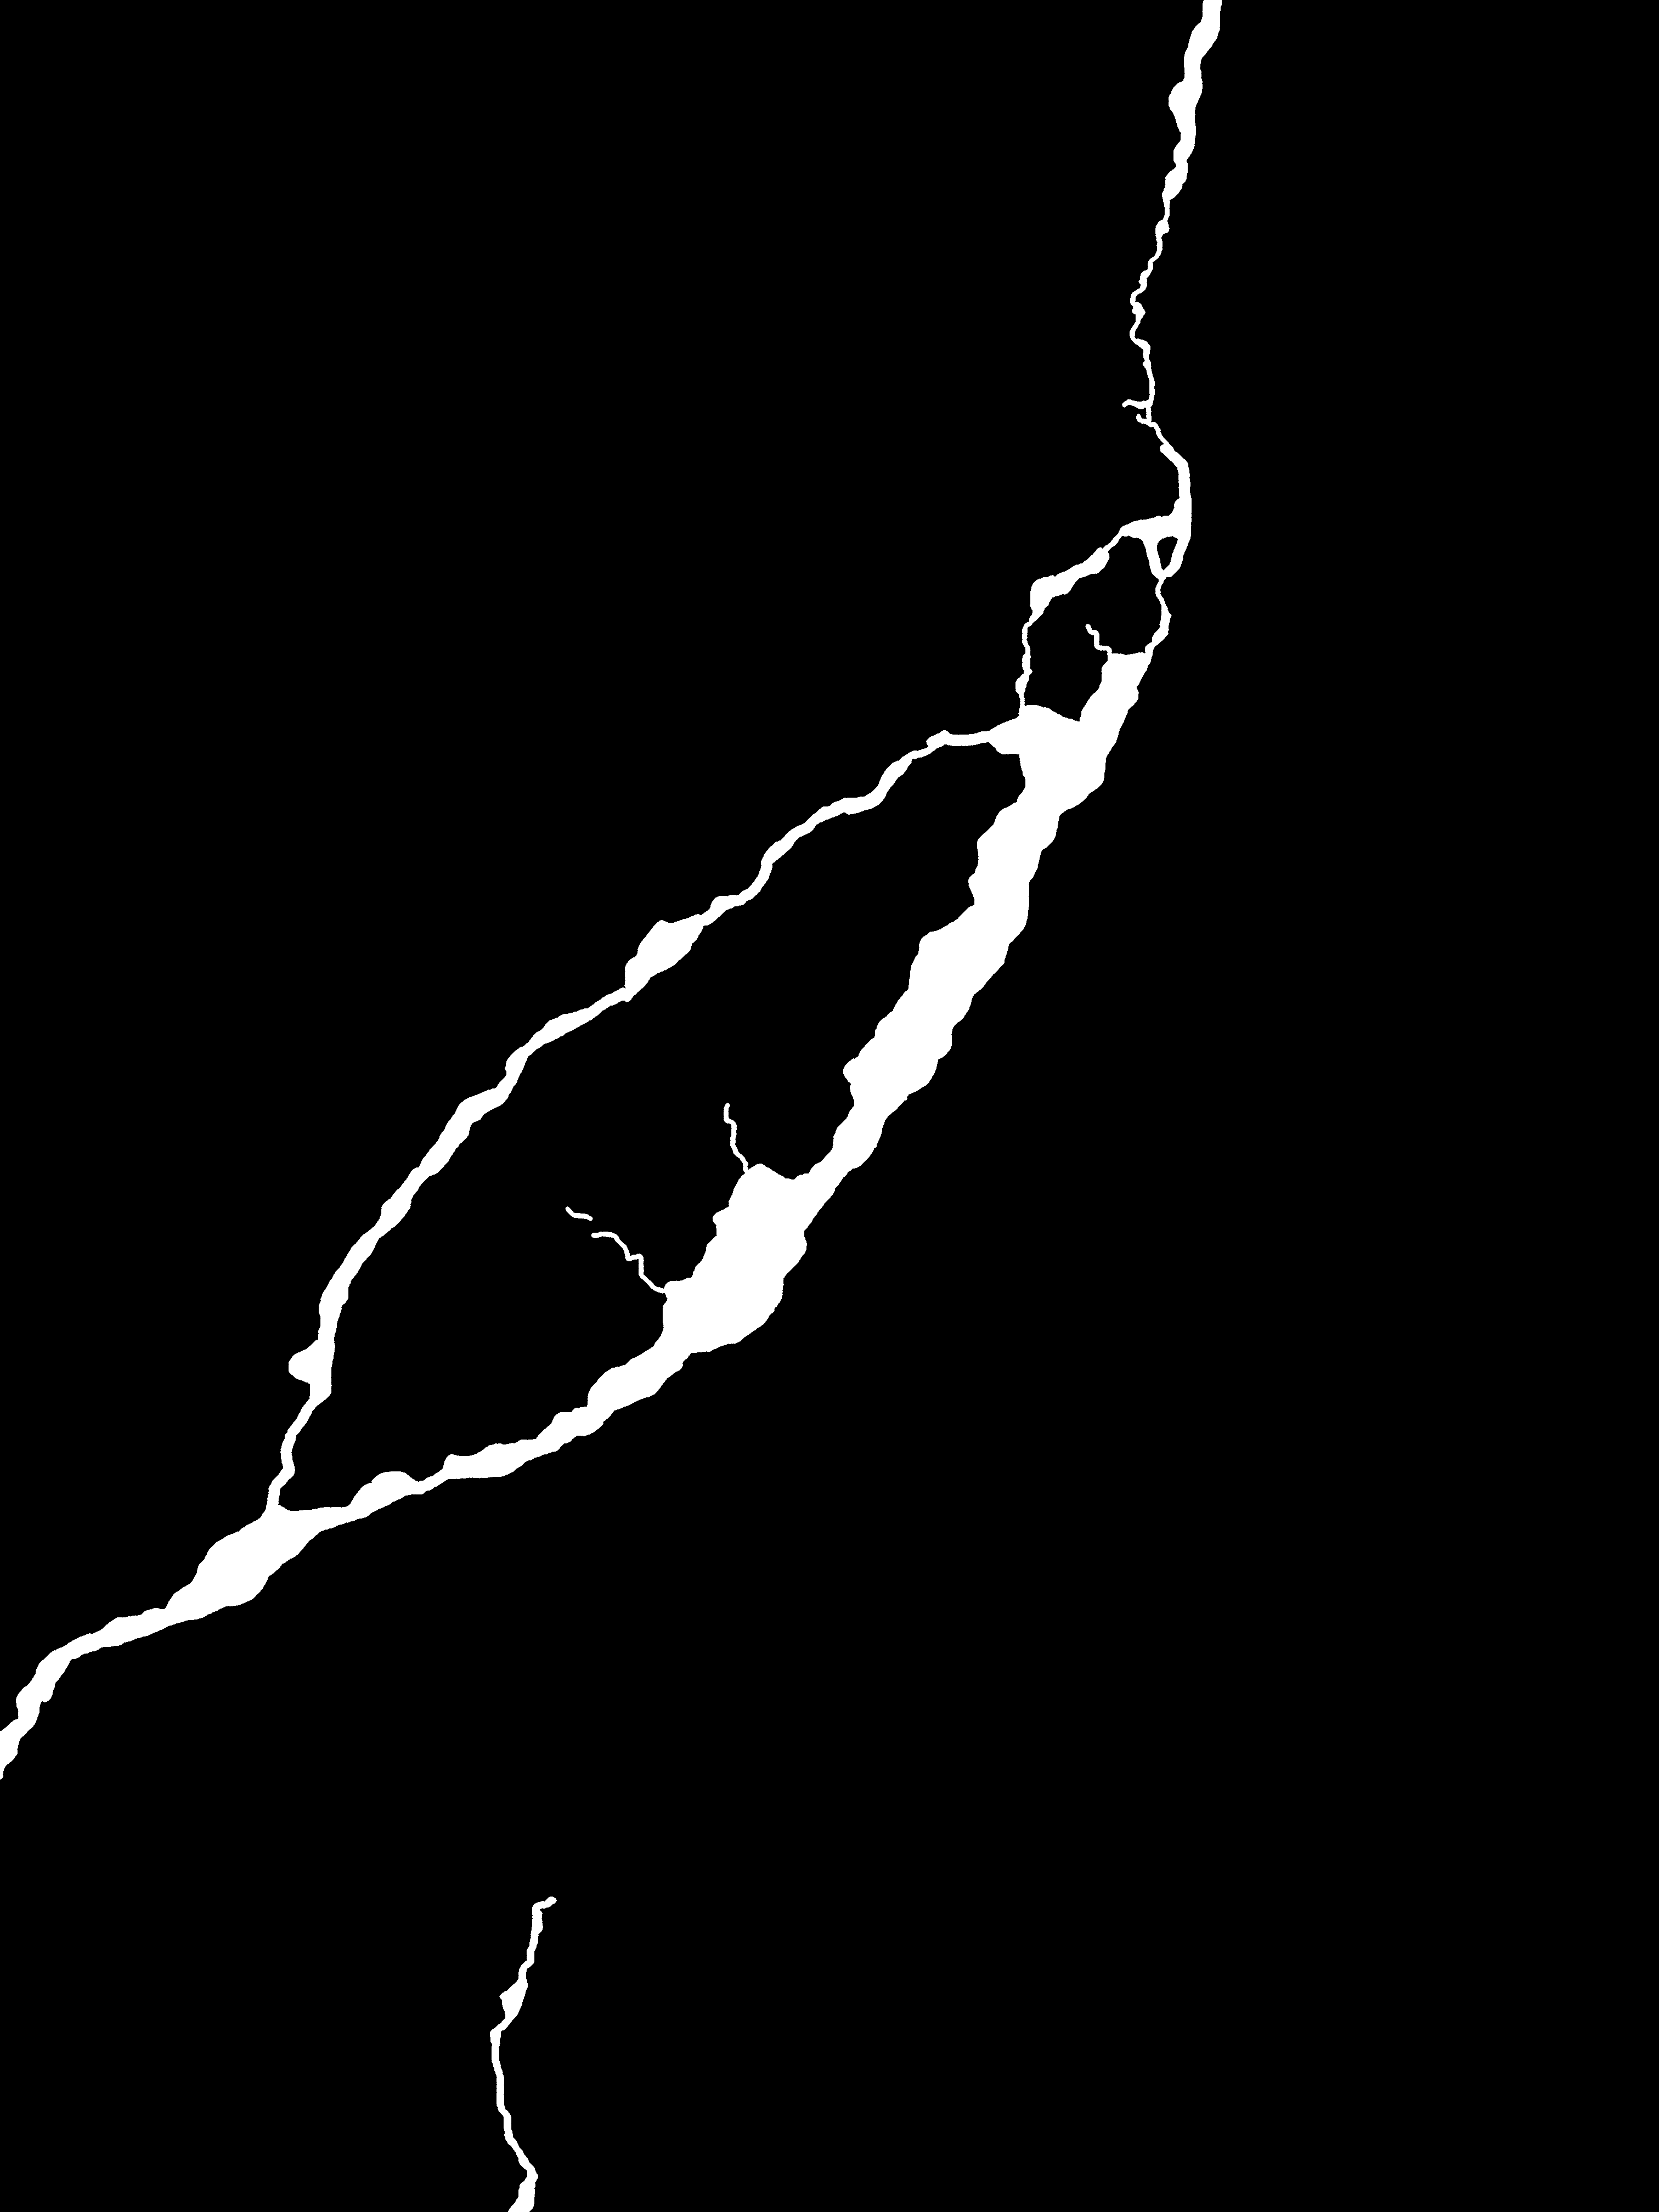Crack: (0, 0, 1256, 1778), (457, 1838, 606, 2212)
